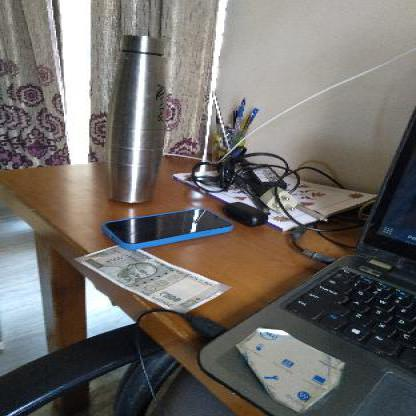New500Front: (76, 244, 240, 313)
